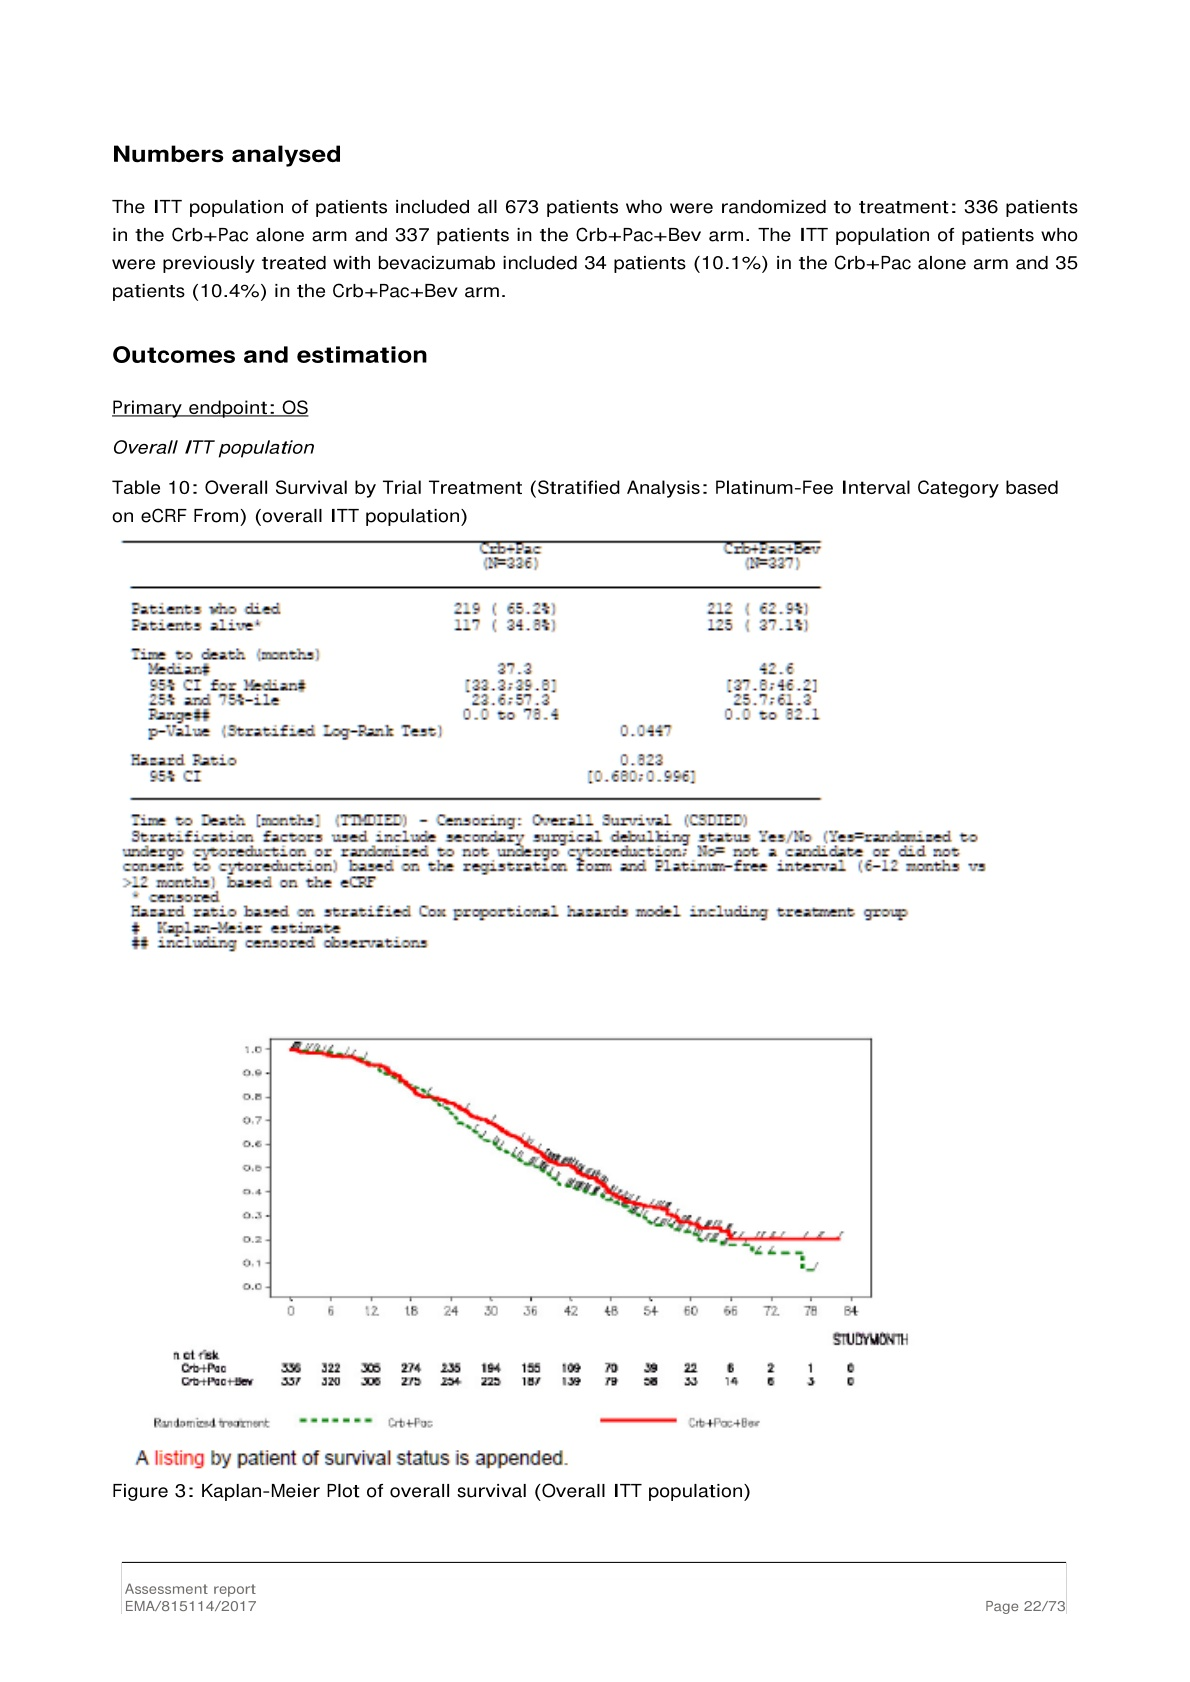nolines: (167, 1345, 859, 1390)
partial_lined_merged_cells: (122, 538, 824, 802)
